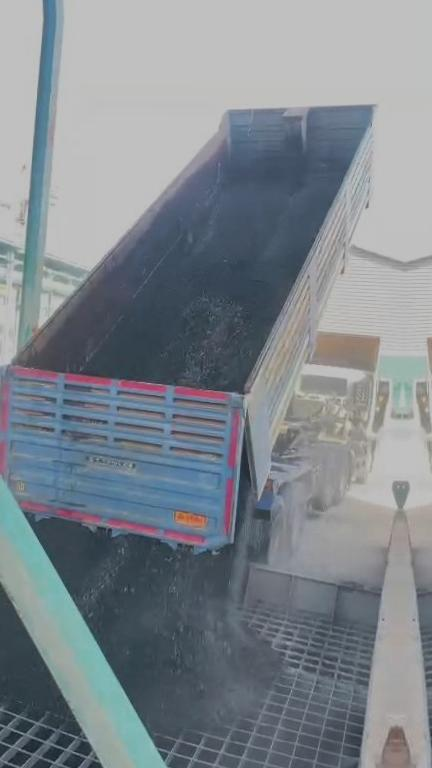gravel: (85, 161, 340, 393), (31, 520, 273, 730), (0, 581, 64, 714)
